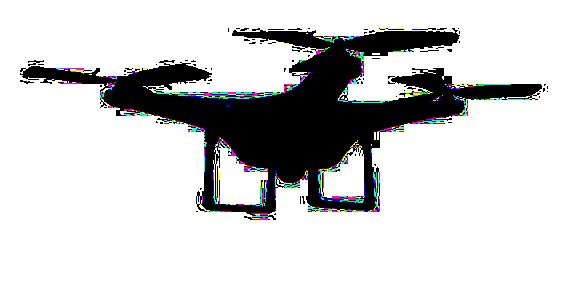Drone: (15, 16, 554, 220)
